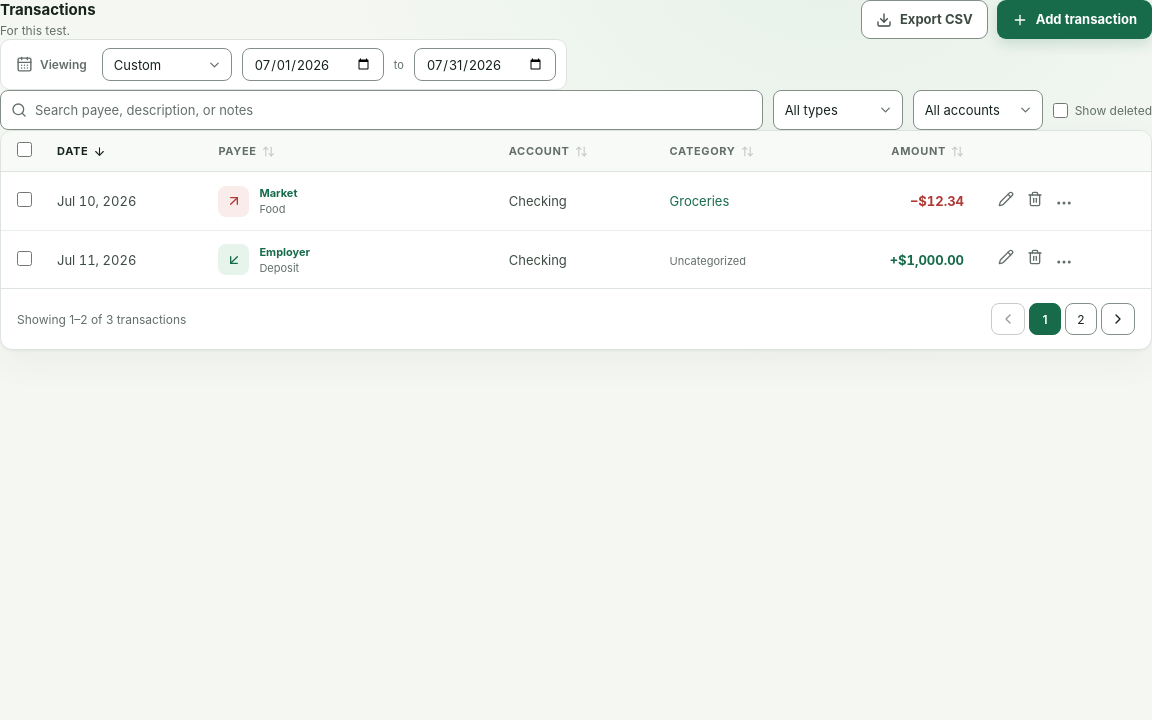
transaction mass selection › clears an explicit stale selection so old versions cannot be retried
Click the checkbox named "Select transaction ": (24, 200) [16,192,32,207]
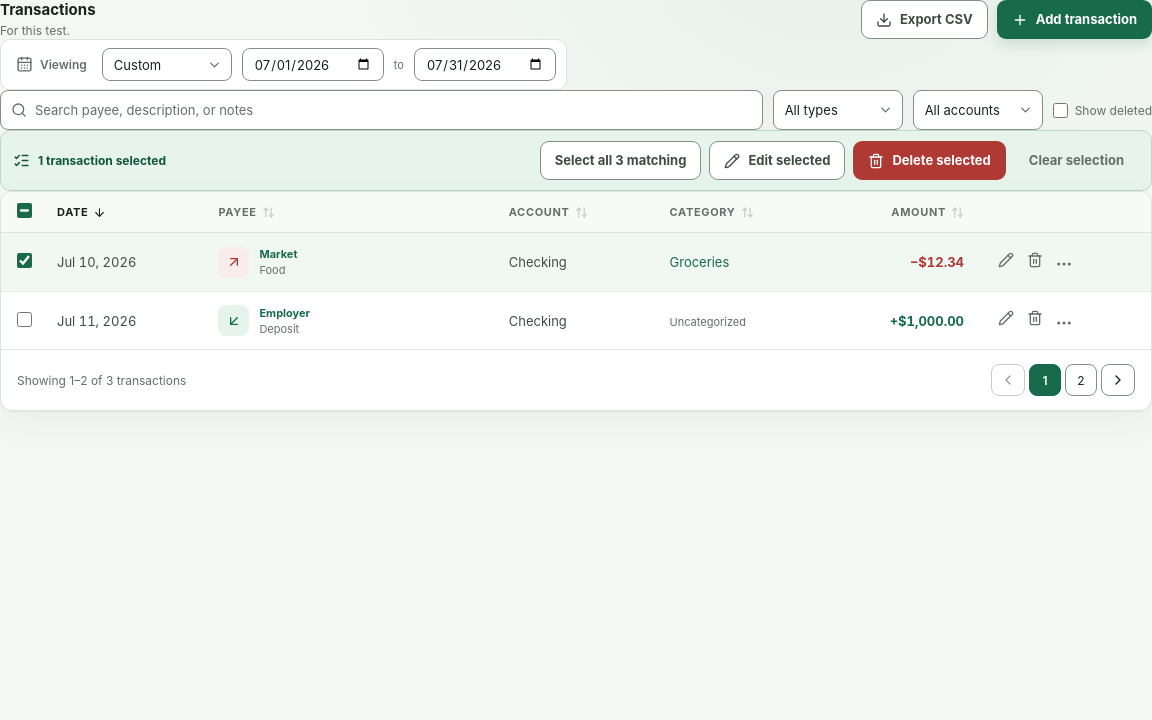
Click the button "Edit selected": (777, 161) [709,141,845,180]
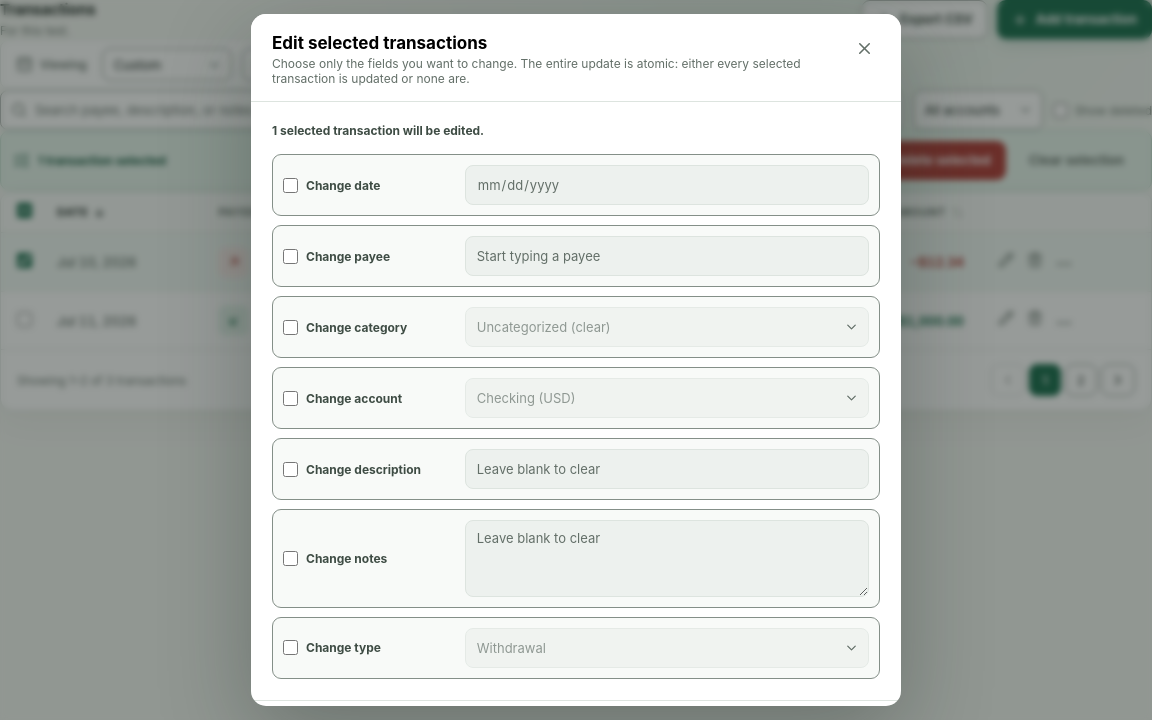
Click the text "Change description": (364, 469) [306,462,421,476]
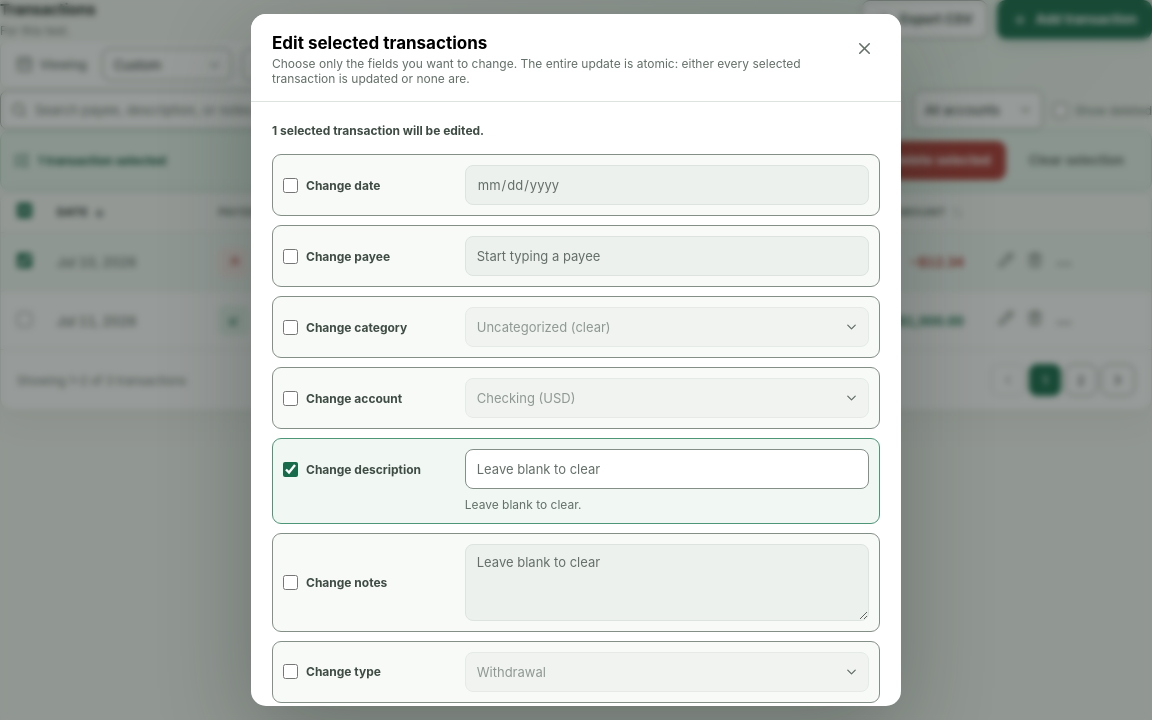
In the field named "New description": (667, 469) [465,449,869,489], type "Will be stale"
(page scrolled)
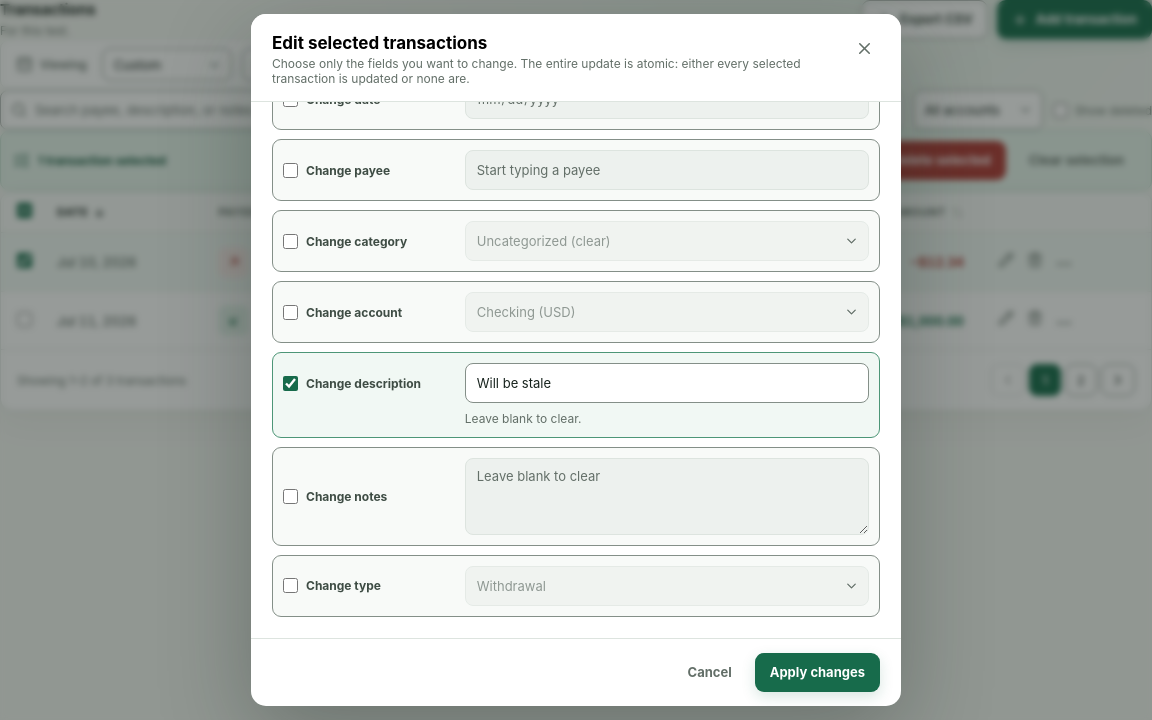
Click the button "Apply changes": (817, 672) [755,653,880,692]
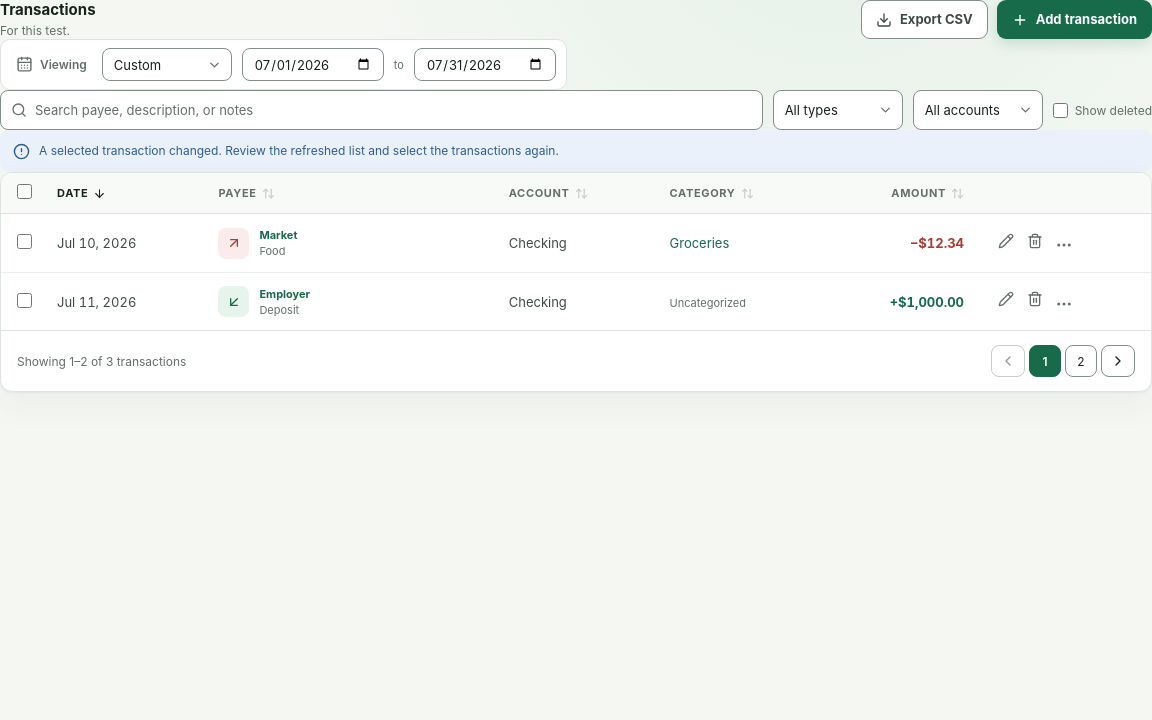
Expected: the checkbox named "Select transaction " is not checked, [16,234,32,249]
Expected: the text "review the refreshed list and select the transactions again" is shown, [39,143,559,158]
Expected: the dialog is gone
